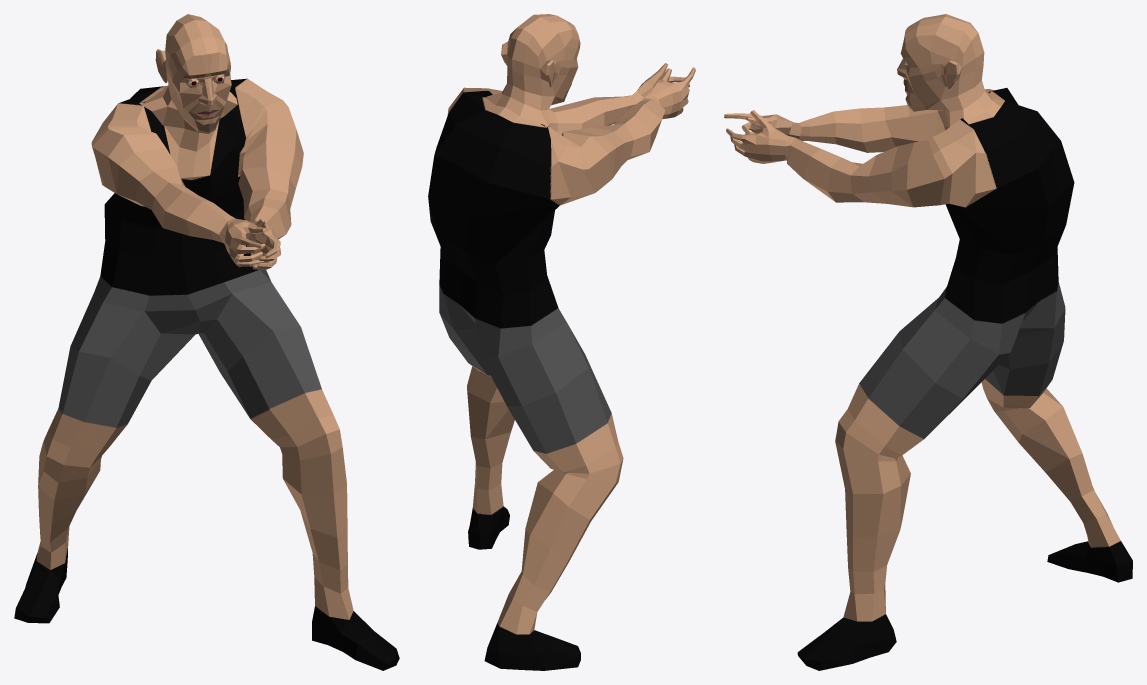
File: PlayerShoot(25).obj
3 renders of one model, left to right at view 1: azimuth 30°, elevation 25°; view 2: azimuth 150°, elevation 25°; view 3: azimuth 270°, elevation 25°, orthographic. The views are drawn at different scales.
Visible parts, largest first — view 1: Plane002; view 2: Plane002; view 3: Plane002.
Part boxes in pixels (box(x1,y1,x2,y2)): Plane002: box(14, 14, 399, 670); Plane002: box(428, 14, 695, 670); Plane002: box(724, 14, 1132, 670).
Bounding box in the file's own units: 713 × 1663 × 1043.
